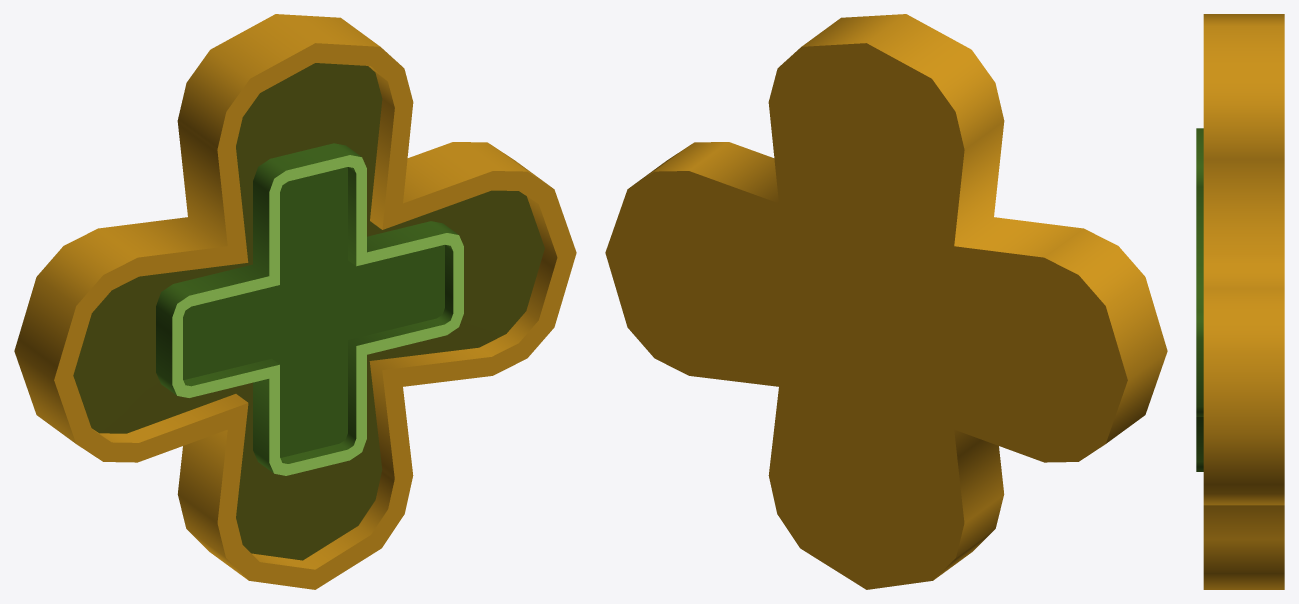
Rendered from Plusik.fbx.
3 views of the same model, side by side, from view 1: azimuth 30°, elevation 25°; view 2: azimuth 150°, elevation 25°; view 3: azimuth 270°, elevation 25° (orthographic).
Parts seen in each view (by area): view 1: Plusik; view 2: Plusik; view 3: Plusik.
Boxes of the visible parts, x1,y1,x2,y2 form: Plusik: [14, 14, 576, 589]; Plusik: [605, 14, 1167, 589]; Plusik: [1196, 14, 1284, 589].
Size of the model in its own units: 33.54 by 33.54 by 4.83.
